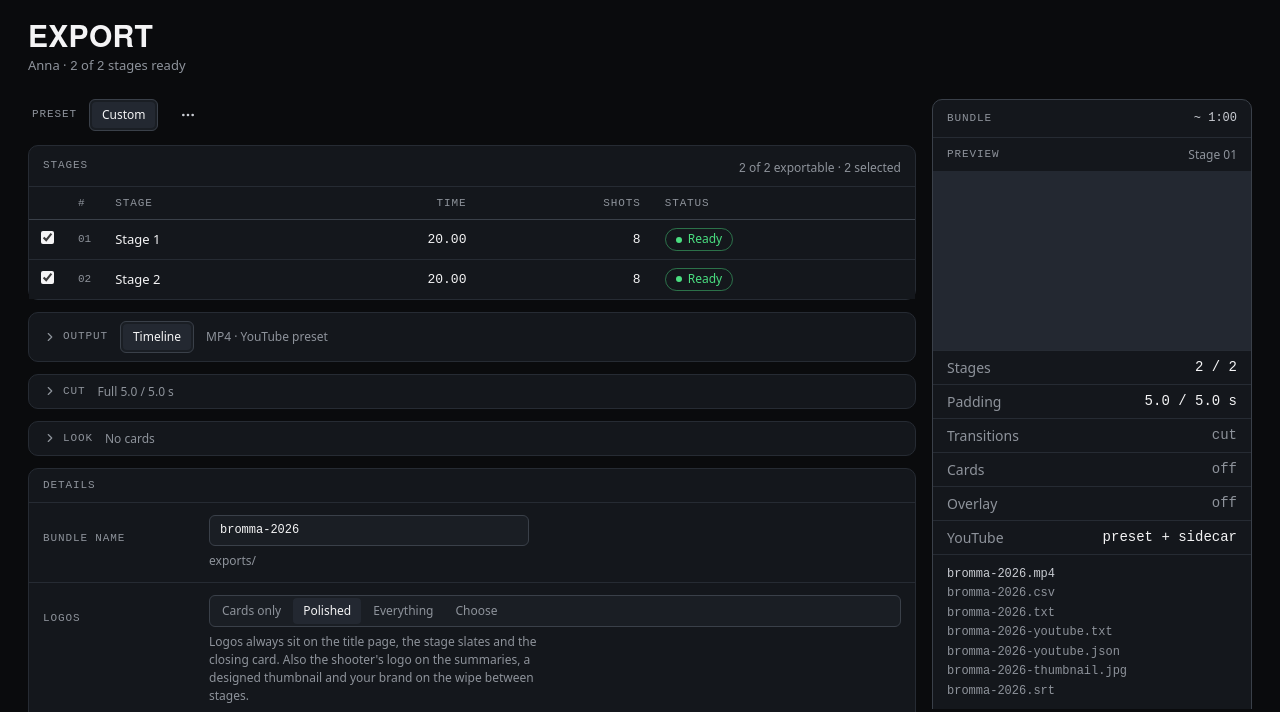
Scenario: Export on a desktop-synced match › renders the match video whatever the stored form says
Click the button "Output" at {"x": 75, "y": 337}, box [43,328,108,345]
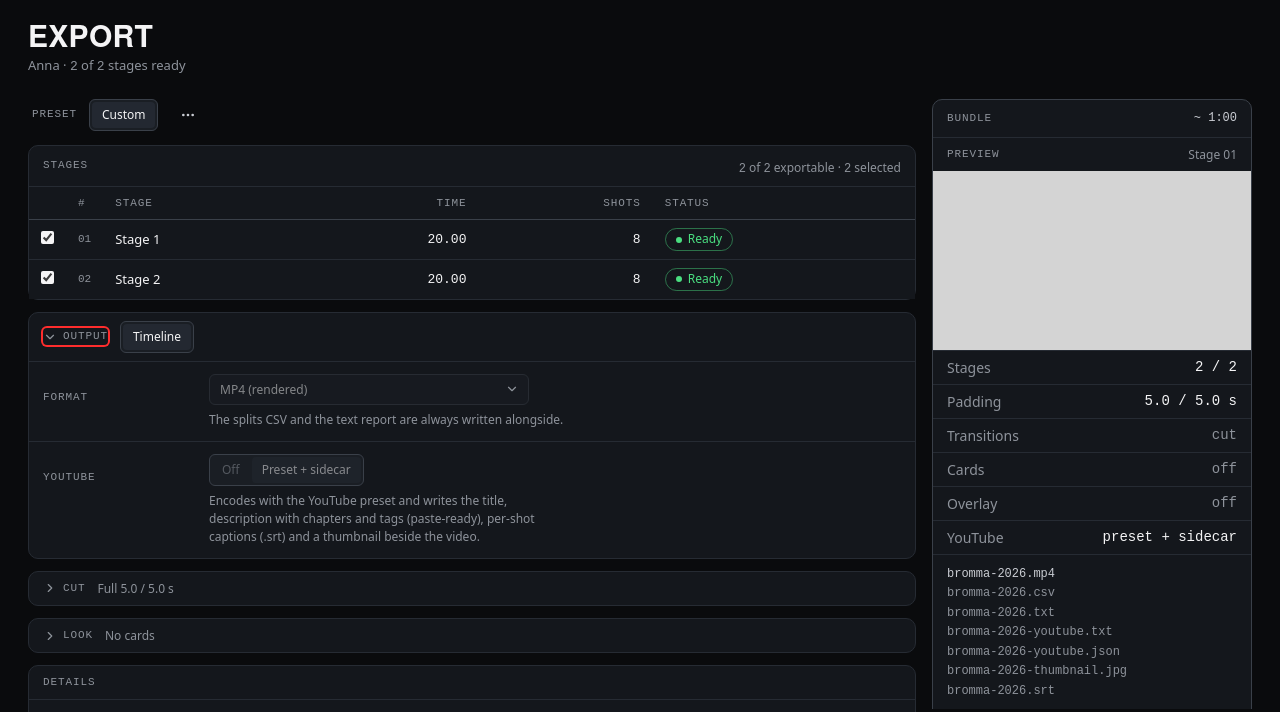
Expected: the dropdown named "Timeline format" shows "MP4 (rendered)", [209,374,529,405]
Expected: the dropdown named "Timeline format" is disabled, [209,374,529,405]
